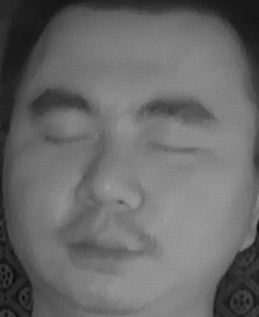blink: (147, 127, 198, 166), (43, 118, 91, 156)
mouth: (56, 215, 148, 273)
